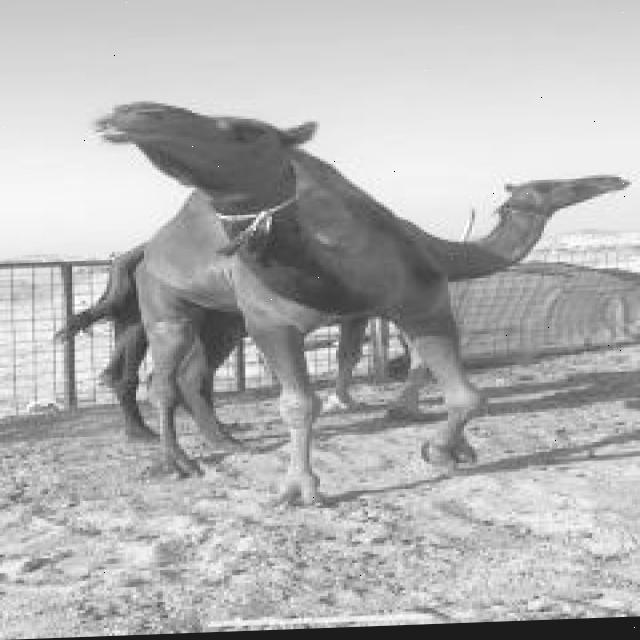Camel: (83, 86, 486, 514)
